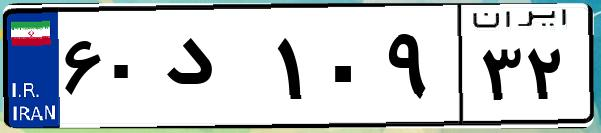0: (330, 28, 385, 110), (110, 28, 158, 98)
1: (270, 28, 330, 110)
2: (525, 38, 570, 115)
3: (475, 38, 525, 113)
6: (57, 26, 110, 100)
9: (385, 28, 445, 110)
د: (158, 20, 270, 120)
